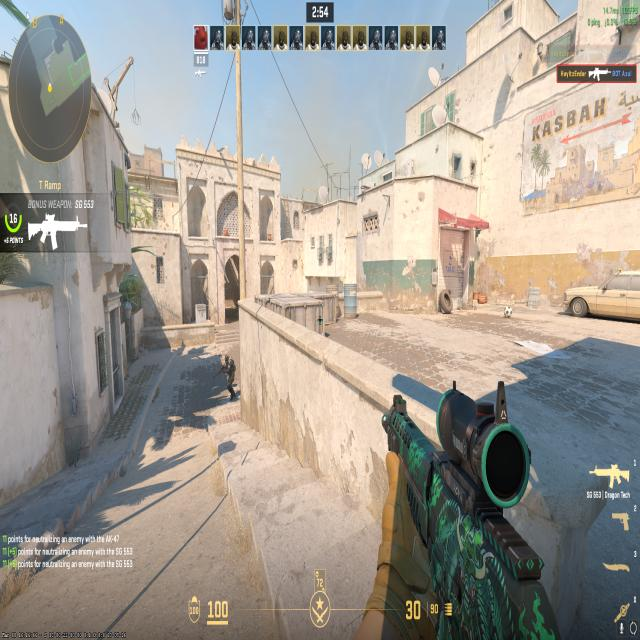ct: (215, 347, 238, 404)
